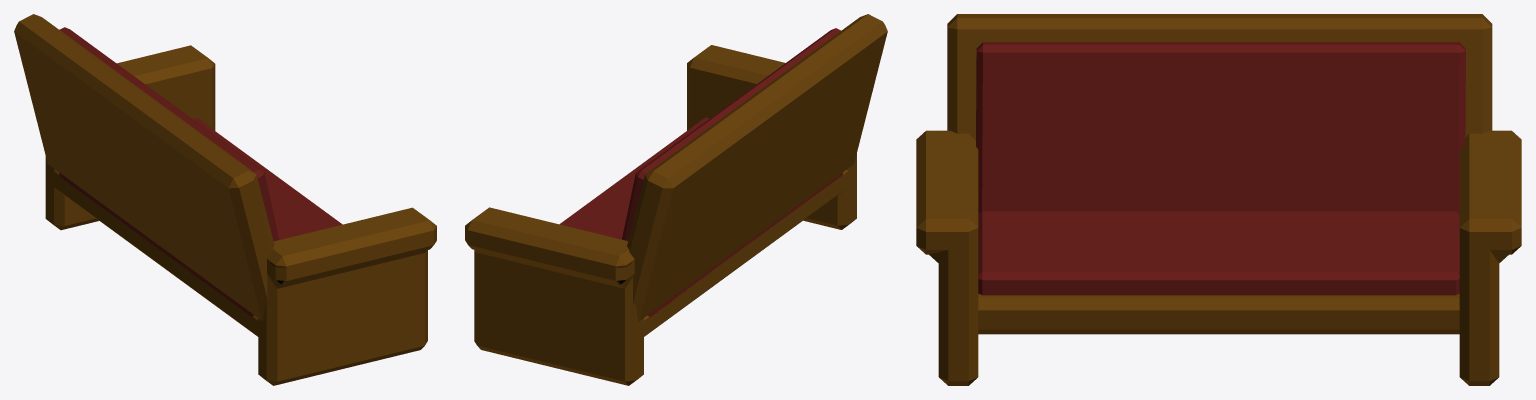
Rendered from couch.glb.
The picture shows the model from 3 angles, left to right: view 1: azimuth 30°, elevation 25°; view 2: azimuth 150°, elevation 25°; view 3: azimuth 270°, elevation 25°; orthographic projection. The views are drawn at different scales.
Visible parts, largest first — view 1: Frame, Cushon; view 2: Frame, Cushon; view 3: Cushon, Frame.
Boxes of the visible parts, <box> form: Frame: <box>14,14,436,385</box>; Cushon: <box>59,27,342,317</box>; Frame: <box>465,14,887,385</box>; Cushon: <box>559,28,842,317</box>; Cushon: <box>976,42,1465,295</box>; Frame: <box>916,14,1521,385</box>.
Bounding box in the file's own units: 2.57 × 2.73 × 5.61.
2 materials, 2 textured.
